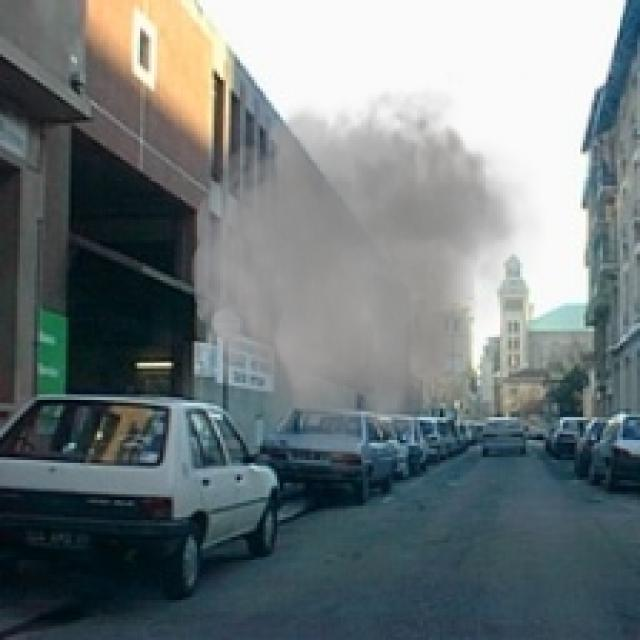smoke: (183, 71, 546, 486)
